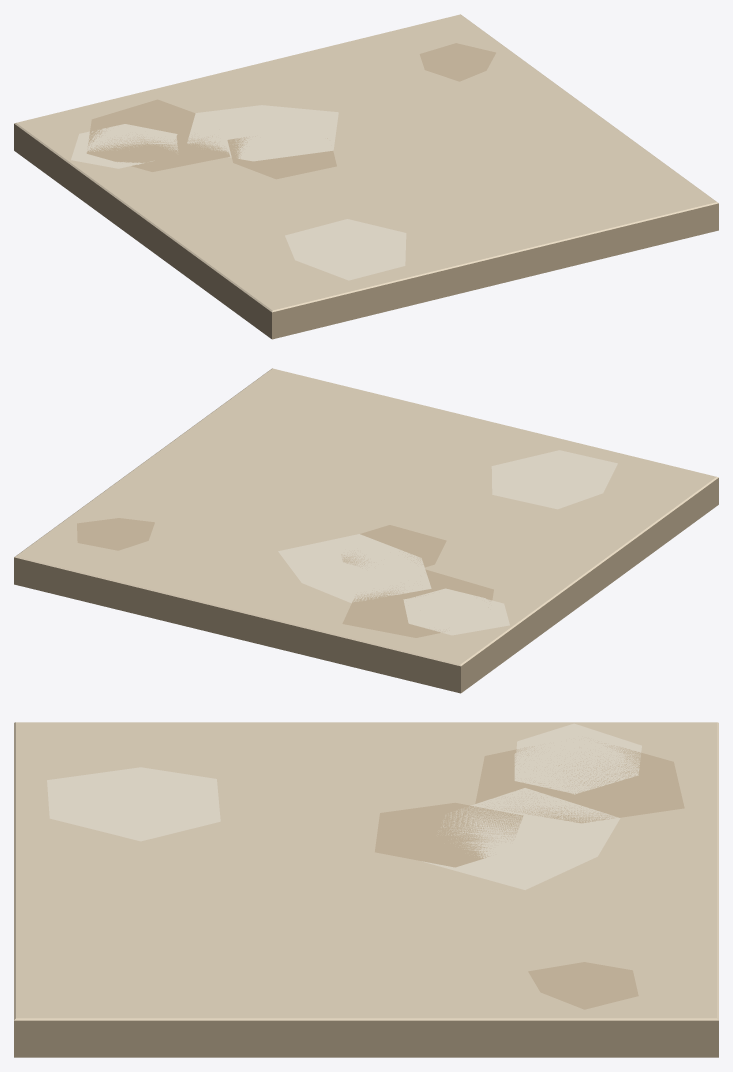
Rendered from wg_boden_teppich_a.glb.
3 views of the same model, one above another, from view 1: azimuth 30°, elevation 25°; view 2: azimuth 150°, elevation 25°; view 3: azimuth 270°, elevation 25° (orthographic). The views are drawn at different scales.
Visible parts, largest first — view 1: wg_boden_teppich_a; view 2: wg_boden_teppich_a; view 3: wg_boden_teppich_a.
Boxes of the visible parts, left/top/right/bottom form: wg_boden_teppich_a: left=14, top=14, right=718, bottom=339; wg_boden_teppich_a: left=14, top=368, right=718, bottom=693; wg_boden_teppich_a: left=14, top=722, right=718, bottom=1057.
Bounding box in the file's own units: 1 × 0.0607 × 1.
